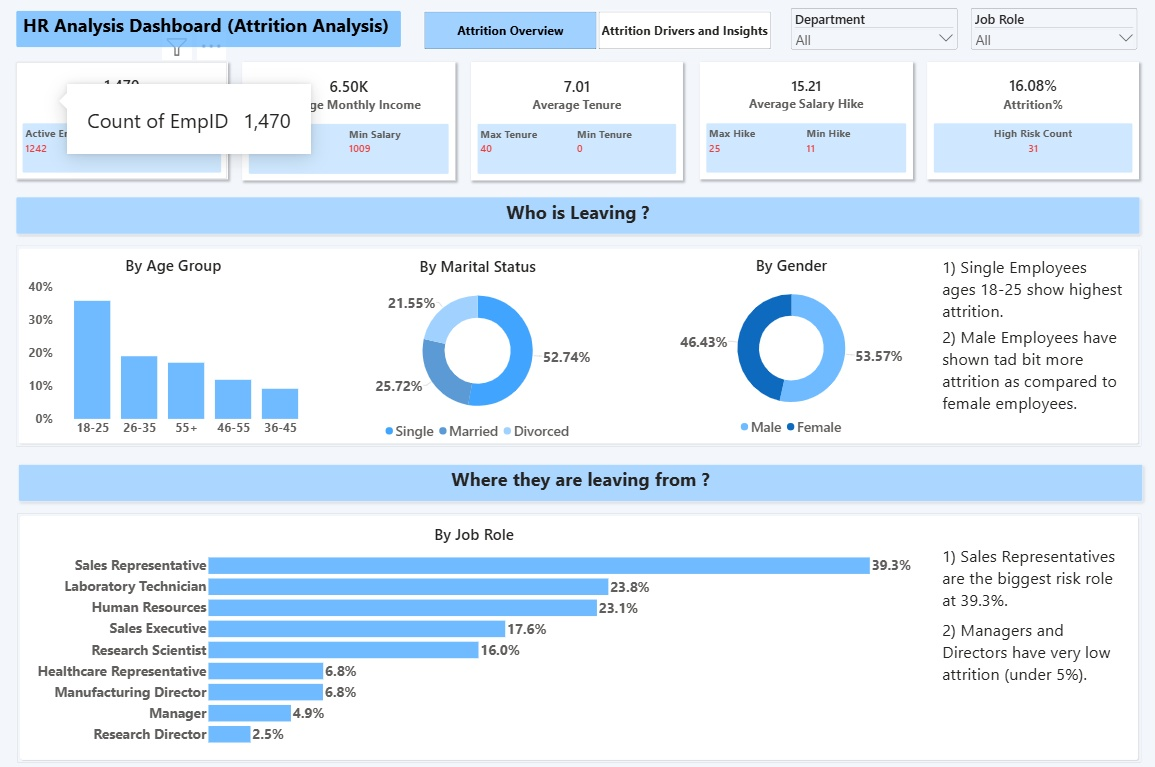

What the dashboard file says about the page in this screenshot:
{"tool":"powerbi","page":{"name":"Attrition Overview","canvas":[5200,3500],"ordinal":0},"visuals":[{"type":"shape","box":[130.8,1111.6,4932.1,879.9],"z":0},{"type":"shape","box":[136.7,2282.6,4926.5,1092.9],"z":1000},{"type":"cardVisual","fields":{"Data":["Count(HR_Analytics.EmpID)"]},"box":[130.8,309.1,928.2,514.1],"z":2000},{"type":"columnChart","title":"By Age Group","fields":{"Y":["All_Measures.Attrition%"],"Category":["HR_Analytics.AgeGroup"]},"box":[178.3,1153.2,1280.6,806.6],"z":3000},{"type":"textbox","box":[130.8,897.6,4926.5,162.5],"z":4000},{"type":"donutChart","title":"By Gender","fields":{"Y":["All_Measures.Attrition%"],"Category":["HR_Analytics.Gender"]},"box":[2877.1,1153.2,1307.8,796.5],"z":5000},{"type":"cardVisual","fields":{"Data":["All_Measures.Average Monthly Income"]},"box":[1123.6,309.1,934.1,519.2],"z":6000},{"type":"textbox","box":[142.7,2068.6,4927.8,160.5],"z":7000},{"type":"textbox","box":[130.8,83.2,1688,160],"z":8000},{"type":"donutChart","title":"By Marital Status","fields":{"Y":["All_Measures.Attrition%"],"Category":["HR_Analytics.MaritalStatus"]},"box":[1475.1,1158.5,1362.6,809.1],"z":10000},{"type":"barChart","title":"By Job Role","fields":{"Y":["All_Measures.Attrition%"],"Category":["HR_Analytics.JobRole"]},"box":[219.9,2330.2,3840,1004.6],"z":11000},{"type":"pageNavigator","box":[1920,83.2,1527.7,172.4],"z":12000},{"type":"cardVisual","fields":{"Data":["Avg(HR_Analytics.YearsAtCompany)"]},"box":[2128.1,309.1,928.2,519.2],"z":13000},{"type":"textbox","box":[4184.8,1153.2,838.1,802.5],"z":14000},{"type":"slicer","fields":{"Values":["HR_Analytics.Department"]},"box":[3530.9,71.3,728.6,180],"z":15000},{"type":"cardVisual","fields":{"Data":["Avg(HR_Analytics.PercentSalaryHike)"]},"box":[3126.8,309.1,934.1,514.1],"z":16000},{"type":"slicer","fields":{"Values":["HR_Analytics.JobRole"]},"box":[4315.6,71.3,728,180],"z":17000},{"type":"cardVisual","fields":{"Data":["All_Measures.Attrition%"]},"box":[4125.5,309.1,928.2,514.1],"z":18000},{"type":"textbox","box":[4184.8,2330.2,838.1,998.6],"z":19000}]}

Visuals, with their boxes in screenshot pixels (x1, y1, x2, y2), scaled from the page's 5200x3500 canvas onto the 1155x767 screenshot:
shape: select_region(29, 244, 1125, 436)
shape: select_region(30, 500, 1125, 740)
cardVisual - Count(HR_Analytics.EmpID): select_region(29, 68, 235, 180)
"By Age Group" columnChart: select_region(40, 253, 324, 429)
textbox: select_region(29, 197, 1123, 232)
"By Gender" donutChart: select_region(639, 253, 930, 427)
cardVisual - All_Measures.Average Monthly Income: select_region(250, 68, 457, 182)
textbox: select_region(32, 453, 1126, 488)
textbox: select_region(29, 18, 404, 53)
"By Marital Status" donutChart: select_region(328, 254, 630, 431)
"By Job Role" barChart: select_region(49, 511, 902, 731)
pageNavigator: select_region(426, 18, 766, 56)
cardVisual - Avg(HR_Analytics.YearsAtCompany): select_region(473, 68, 679, 182)
textbox: select_region(930, 253, 1116, 429)
slicer - HR_Analytics.Department: select_region(784, 16, 946, 55)
cardVisual - Avg(HR_Analytics.PercentSalaryHike): select_region(695, 68, 902, 180)
slicer - HR_Analytics.JobRole: select_region(959, 16, 1120, 55)
cardVisual - All_Measures.Attrition%: select_region(916, 68, 1123, 180)
textbox: select_region(930, 511, 1116, 729)
